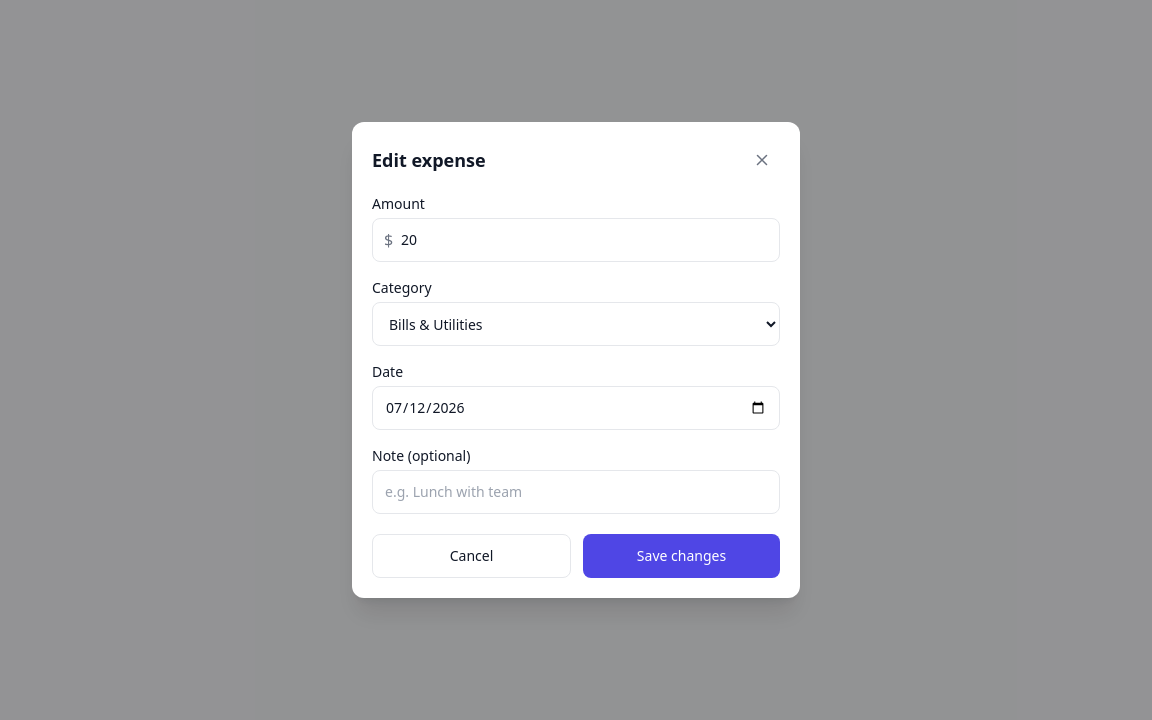
ExpenseFormModal — edit › updates the targeted expense and toasts "Expense updated"
Replace the text in the number field labelled "Amount" with "25". click: (576, 240)
box: [372,218,780,262]
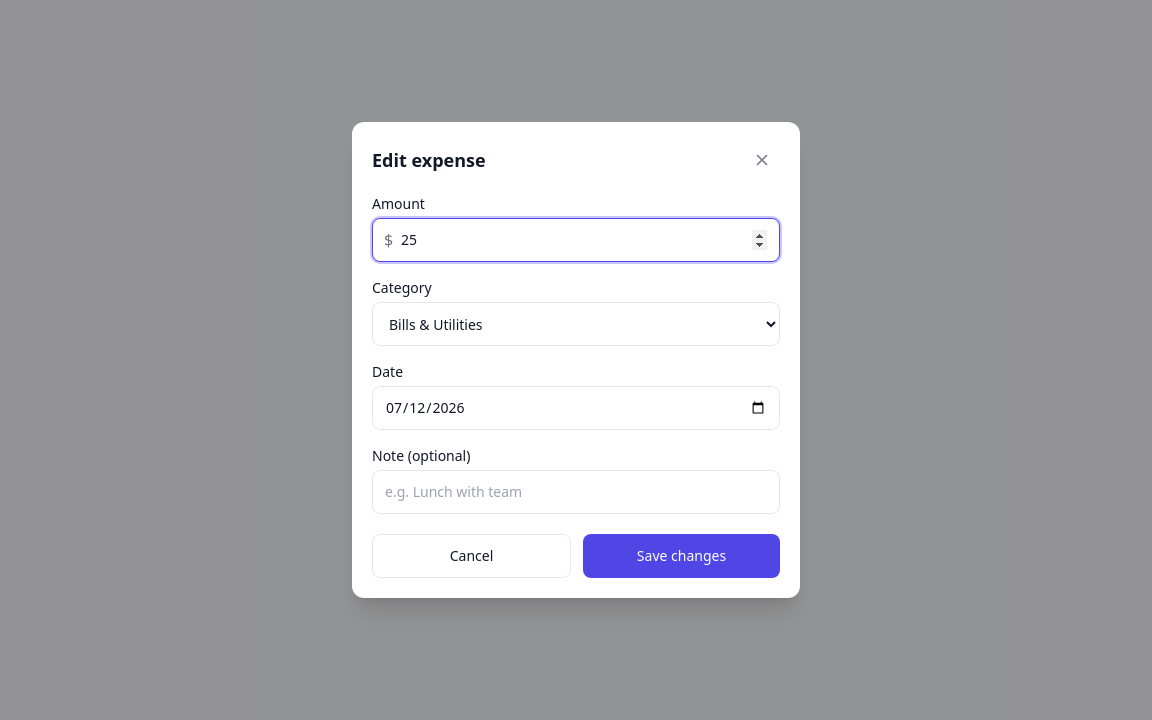
Click the button "Save changes". click: click(682, 556)
box: [583,534,780,578]
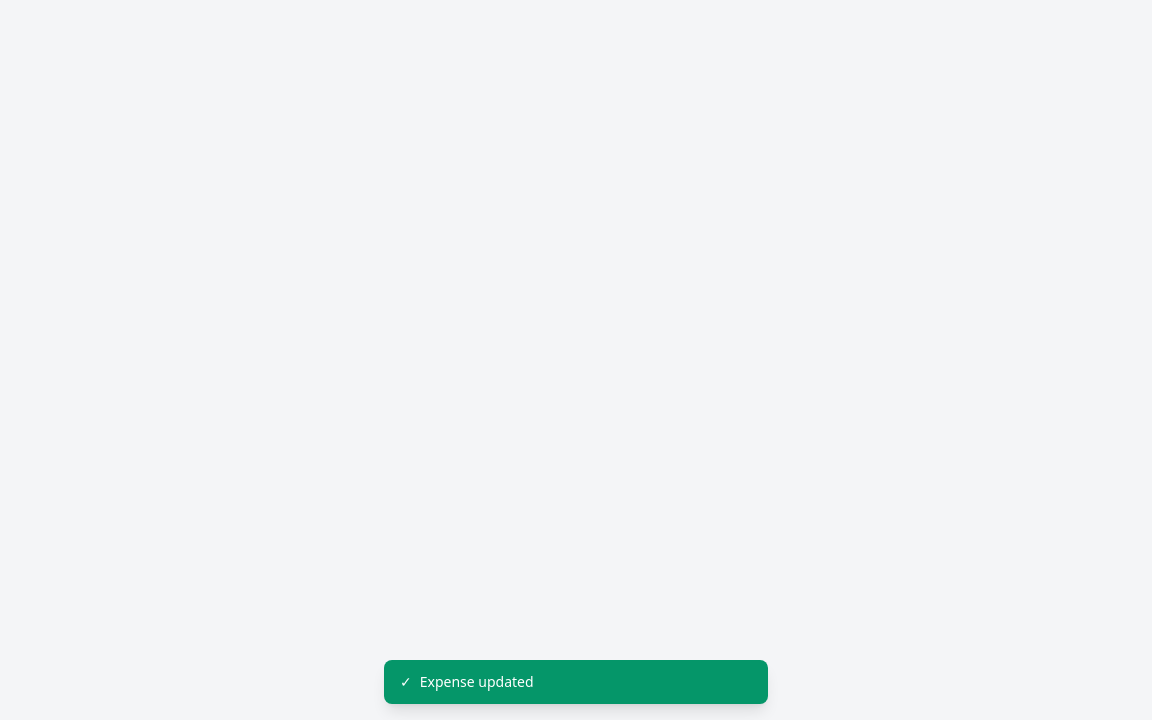
expect the text "Expense updated" is shown: met, box [420,672,534,692]
